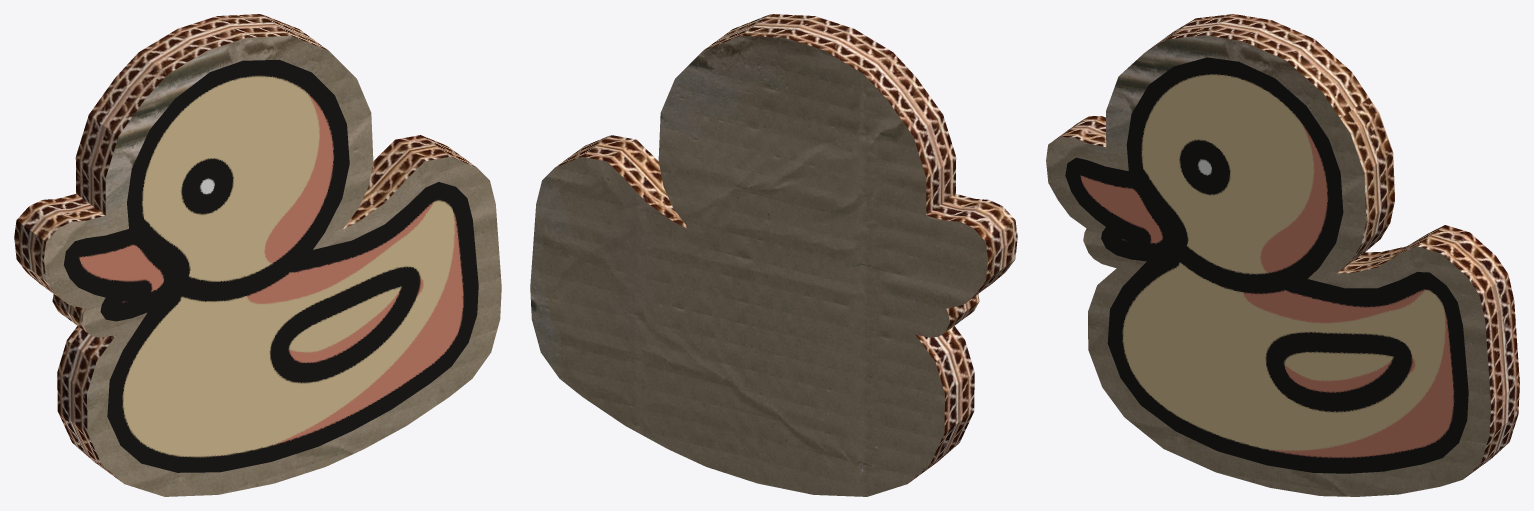
Rendered from duck.fbx.
3 views of the same model, side by side, from view 1: azimuth 30°, elevation 25°; view 2: azimuth 150°, elevation 25°; view 3: azimuth 330°, elevation 25° (orthographic). The views are drawn at different scales.
Visible parts, largest first — view 1: duck; view 2: duck; view 3: duck.
Boxes of the visible parts, <box> form: duck: <box>14,14,501,496</box>; duck: <box>530,14,1017,496</box>; duck: <box>1046,14,1519,496</box>.
Size of the model in its own units: 71.25 by 67.29 by 8.
